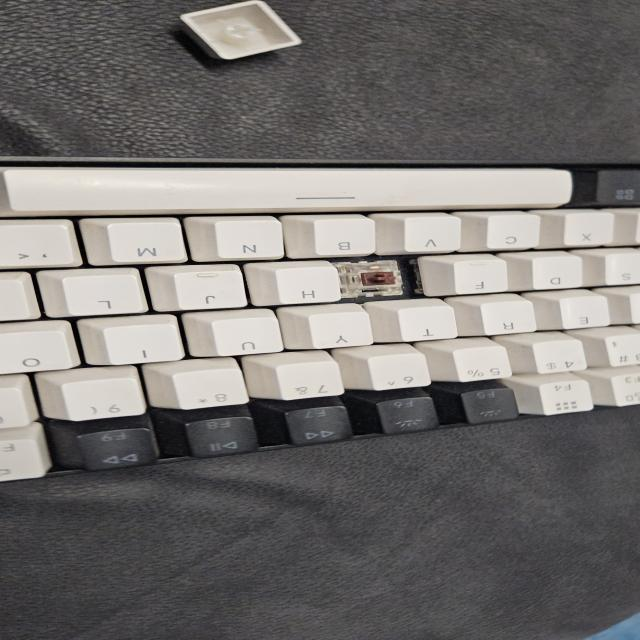C: (354, 263, 400, 295)
